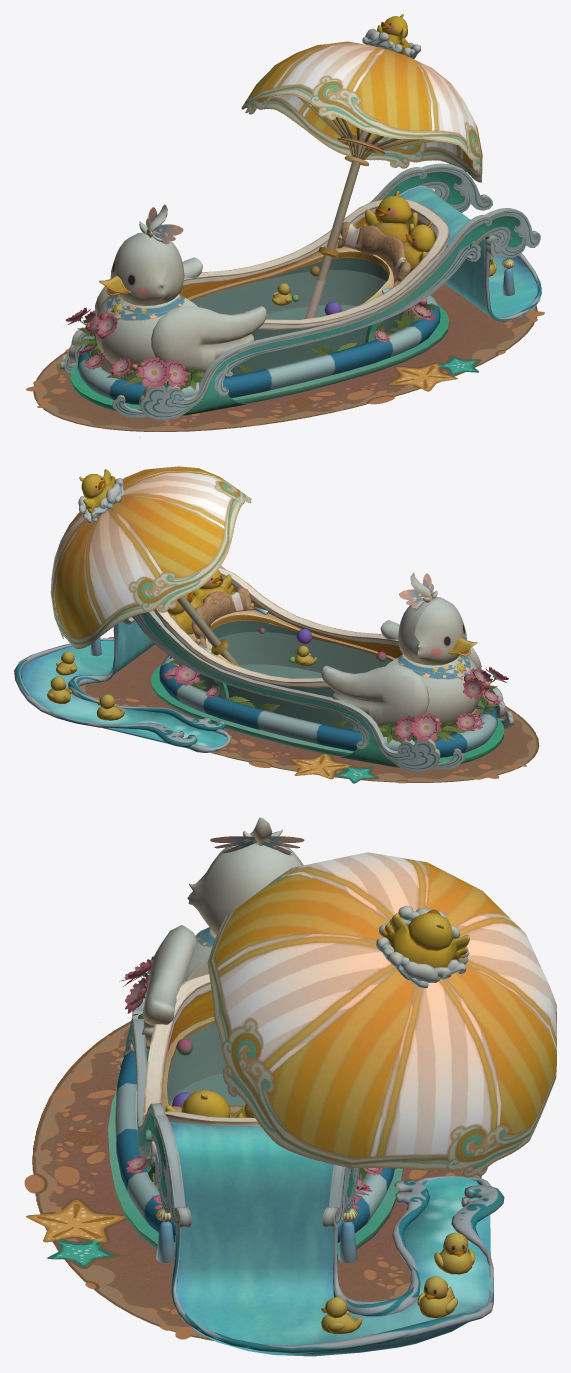
File: furniture-20644.glb
3 views of the same model, one above another, from view 1: azimuth 30°, elevation 25°; view 2: azimuth 150°, elevation 25°; view 3: azimuth 270°, elevation 25° (orthographic). The views are drawn at different scales.
Size of the model in its own units: 7.07 by 3.23 by 4.2.
5 materials, 4 textured.
